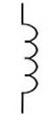inductor: (11, 16, 40, 99)
